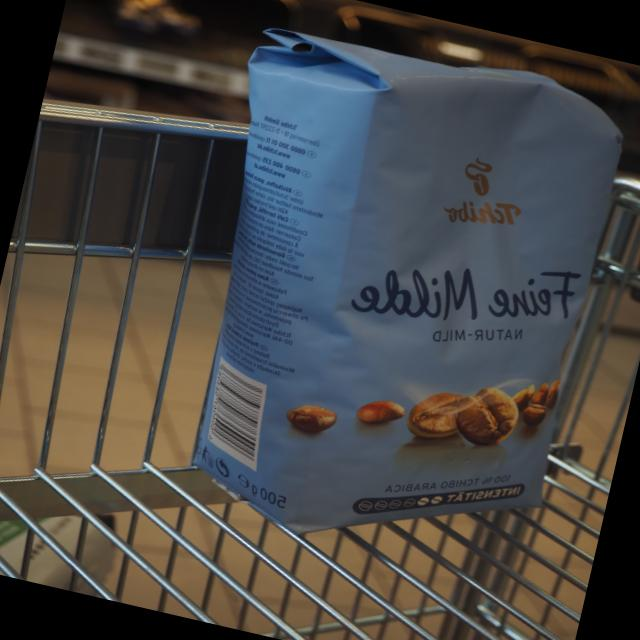FM Bohne: (142, 3, 640, 592)
